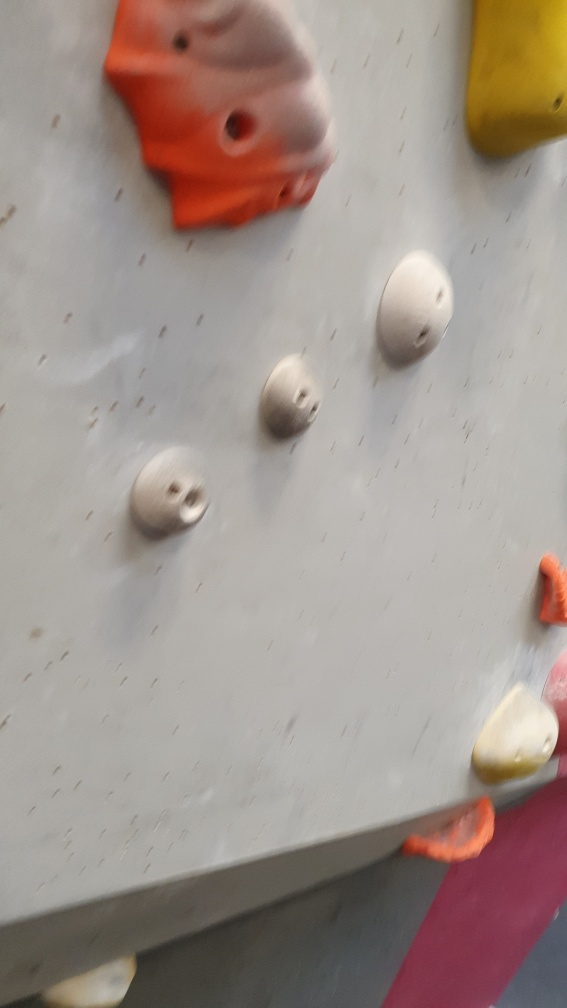Jug: (100, 1, 339, 239), (396, 791, 500, 869), (527, 548, 567, 634)
Sloper: (373, 245, 458, 373), (129, 442, 220, 541), (263, 349, 324, 443)
